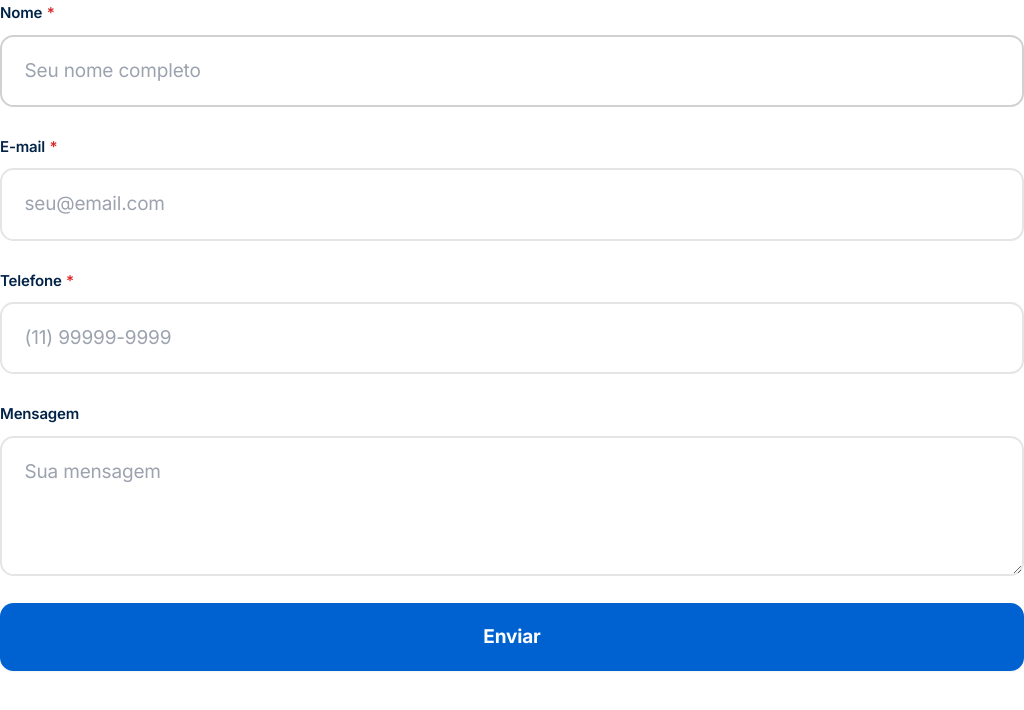
it: ContactForm › displays green success message and clears form on successful submission
The width and height of the screenshot is (1024, 710).
Type "João Silva" into the field labelled "Nome*" at [512, 71], box [0, 34, 1023, 107]
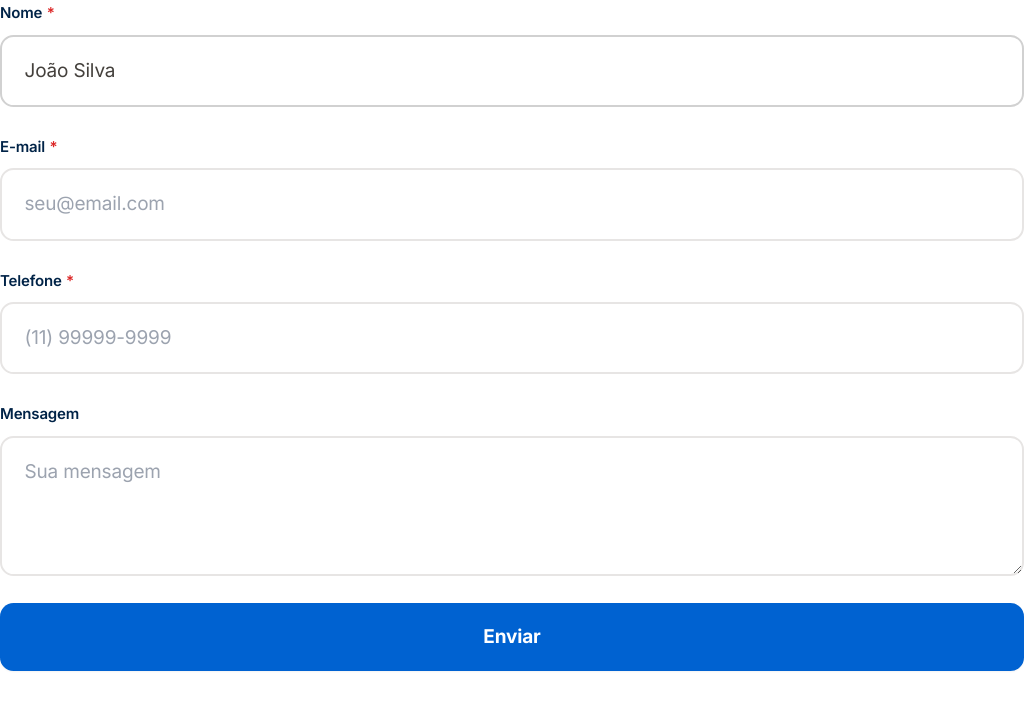
Type "joao@email.com" into the field labelled "E-mail*" at [512, 204], box [0, 168, 1023, 241]
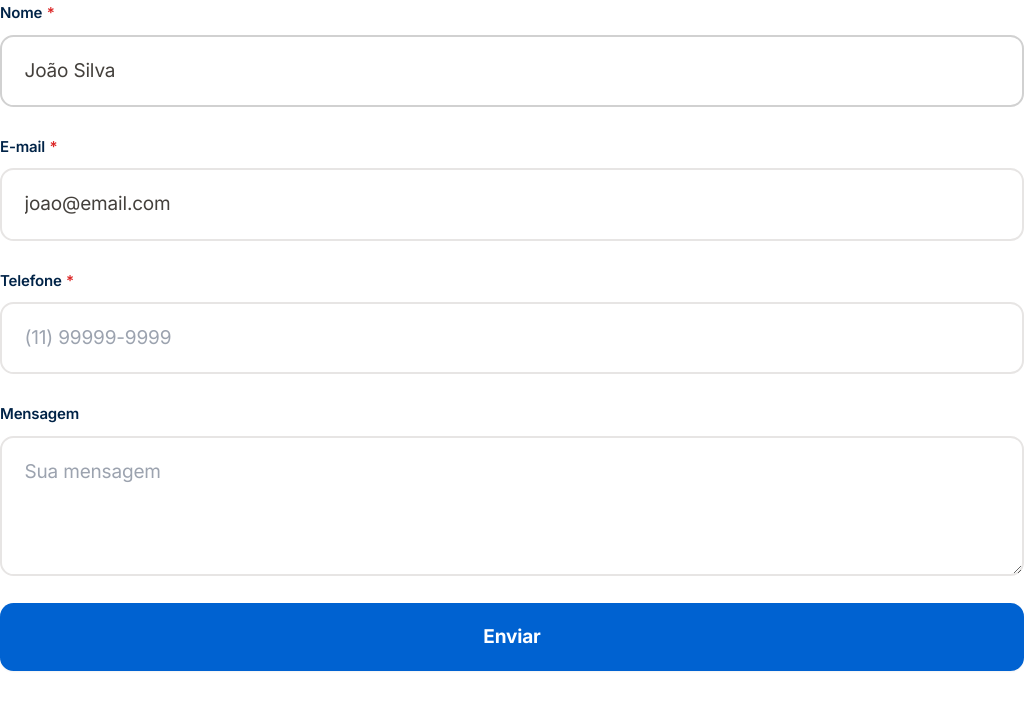
Type "11999999999" into the field labelled "Telefone*" at [512, 338], box [0, 302, 1023, 374]
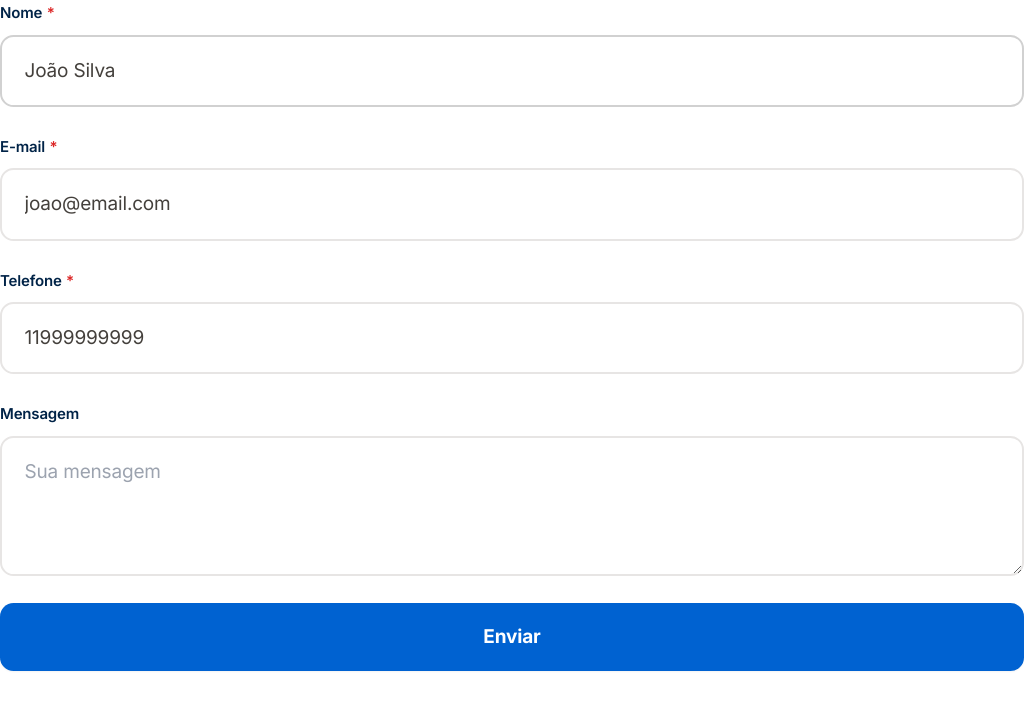
Click the button "Enviar" at [512, 637], box [0, 603, 1023, 671]
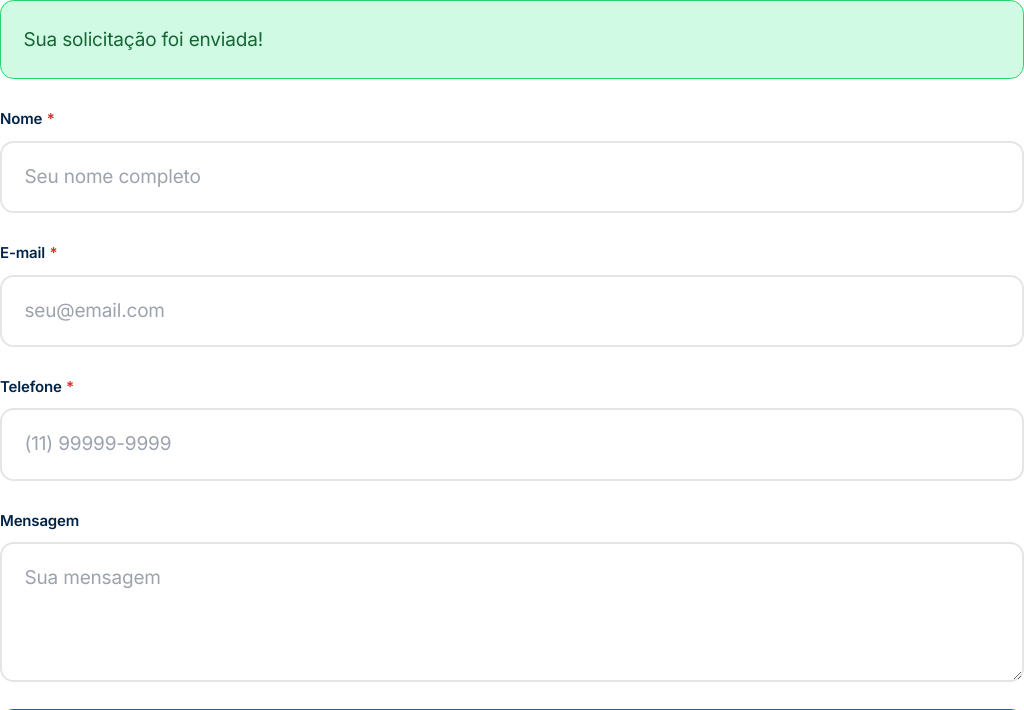
Now the text "Sua solicitação foi enviada!" is shown, box [0, 0, 1023, 79]
Now the field labelled "Nome*" is empty, box [0, 141, 1023, 213]
Now the field labelled "E-mail*" is empty, box [0, 275, 1023, 347]
